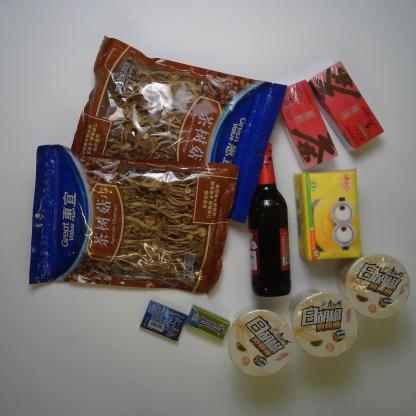Alcohol: (243, 137, 295, 301)
Dried Food: (64, 33, 288, 226), (27, 142, 238, 296)
Gum: (139, 299, 188, 343), (184, 304, 233, 343)
Instant Drink: (308, 59, 386, 155), (272, 80, 339, 172)
Instant Noodles: (333, 250, 411, 321), (287, 287, 358, 358), (226, 308, 296, 379)
Tissue: (292, 168, 366, 265)
